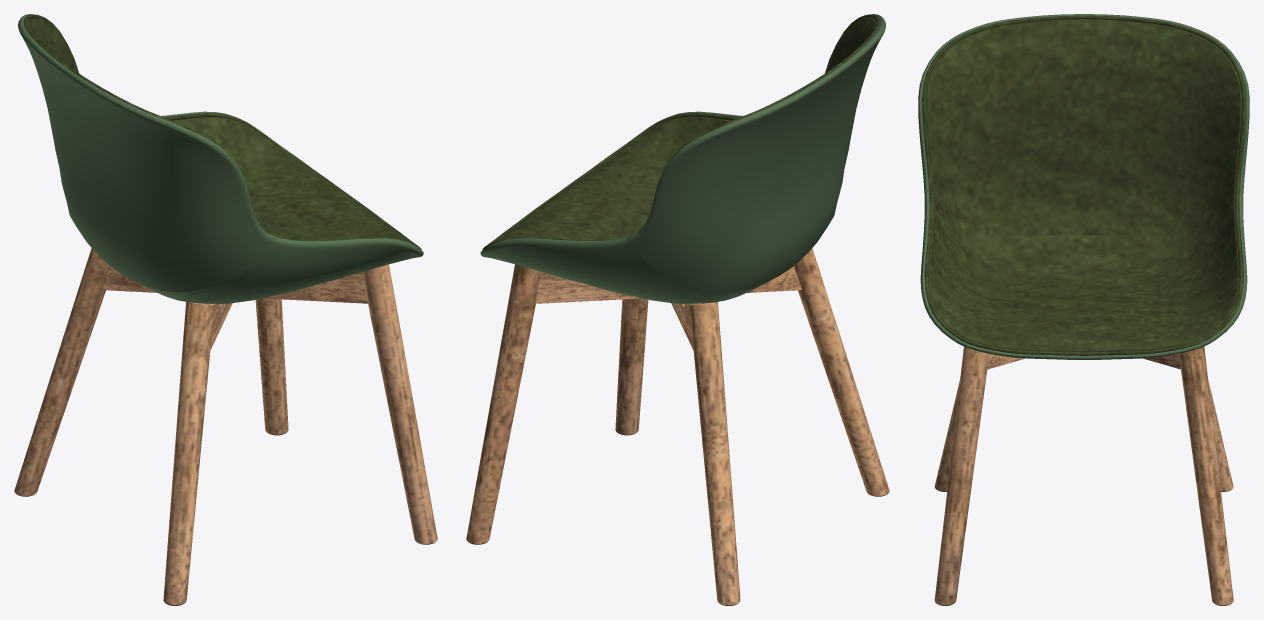
Rendered from DiningChair.fbx.
The picture shows the model from 3 angles, left to right: view 1: azimuth 30°, elevation 25°; view 2: azimuth 150°, elevation 25°; view 3: azimuth 270°, elevation 25°; orthographic projection. The views are drawn at different scales.
Parts seen in each view (by area): view 1: DiningChair; view 2: DiningChair; view 3: DiningChair.
Part boxes in pixels (x1,y1,x2,y2): DiningChair: [14, 14, 437, 605]; DiningChair: [466, 14, 889, 605]; DiningChair: [918, 14, 1249, 605].
Size of what is drawn, in the model's own units: 54.6 by 54.6 by 82.88.
Materials: 4 (2 with a texture image).
